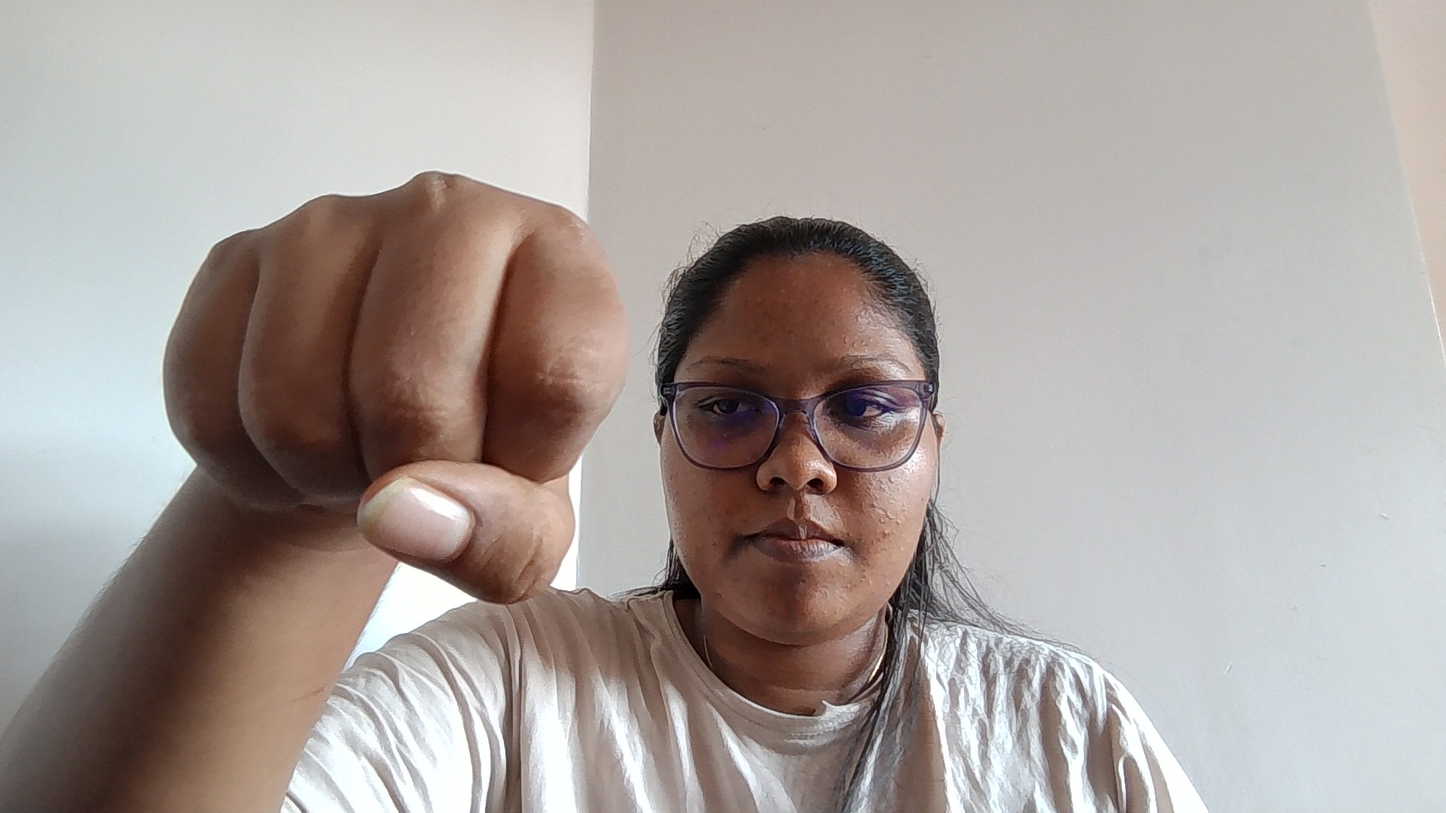Yes: (136, 128, 676, 639)
